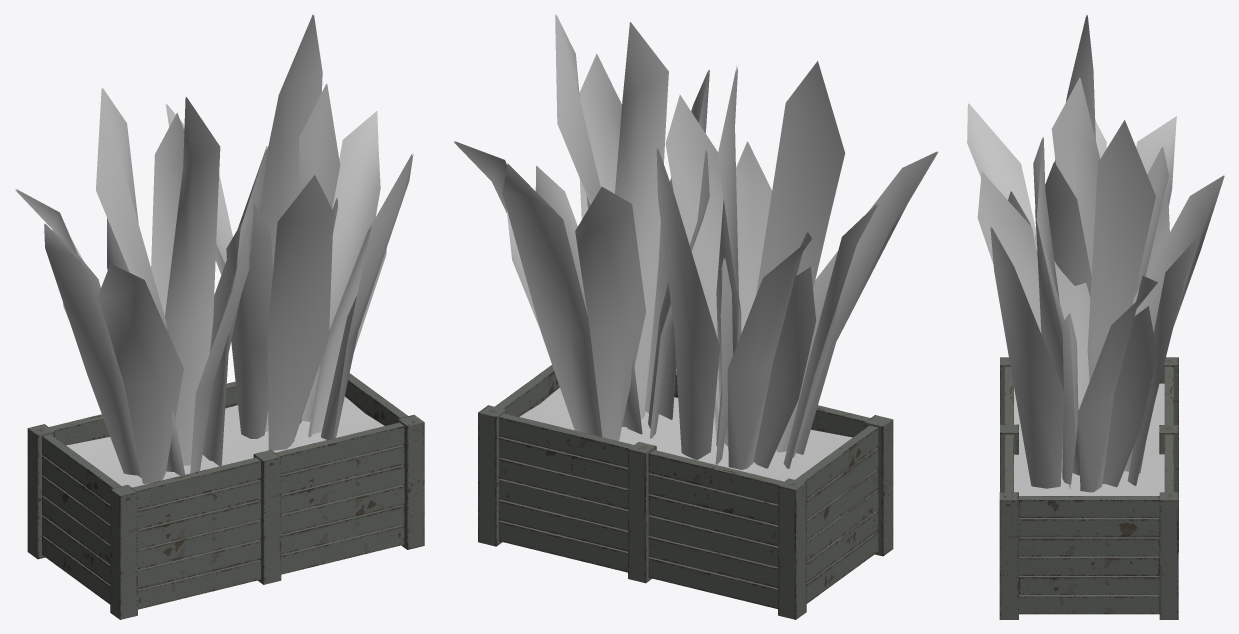
The model's file is SM_PlantC.FBX.
3 renders of one model, left to right at view 1: azimuth 30°, elevation 25°; view 2: azimuth 150°, elevation 25°; view 3: azimuth 270°, elevation 25°, orthographic. The views are drawn at different scales.
Visible parts, largest first — view 1: SM_PlantC_LOD0; view 2: SM_PlantC_LOD0; view 3: SM_PlantC_LOD0.
Part boxes in pixels (x1,y1,x2,y2): SM_PlantC_LOD0: (15, 14, 424, 619); SM_PlantC_LOD0: (454, 14, 938, 619); SM_PlantC_LOD0: (967, 14, 1224, 619).
Size of what is drawn, in the model's own units: 77.34 by 99.11 by 48.4.
